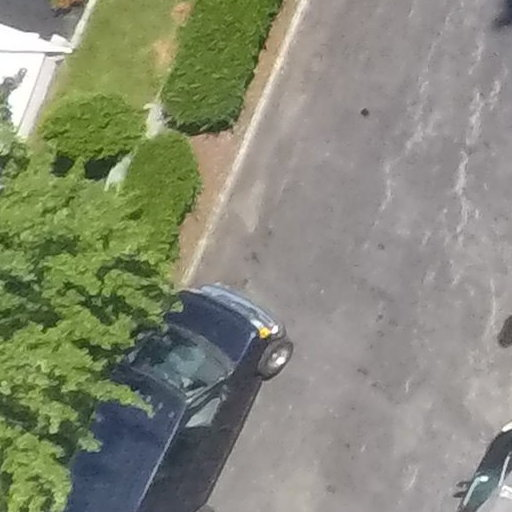car: (68, 248, 335, 512)
